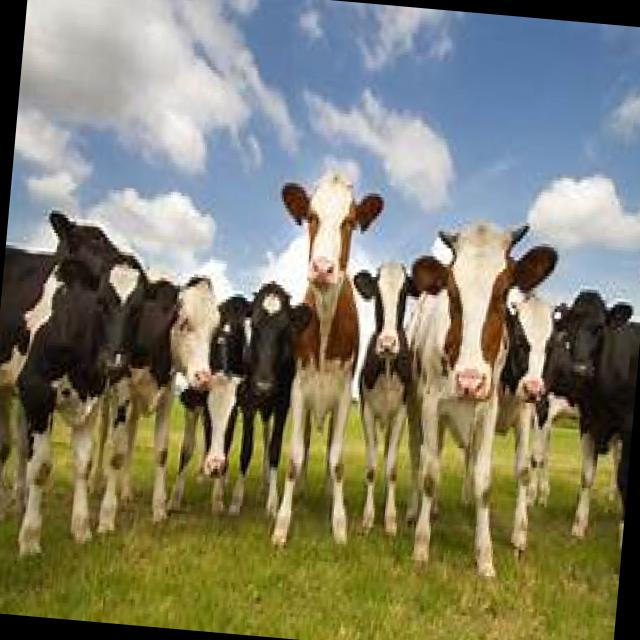animal: (387, 216, 556, 576), (0, 247, 164, 565), (254, 165, 386, 548), (103, 270, 224, 532), (533, 285, 640, 548), (334, 258, 428, 540), (207, 280, 303, 516), (477, 291, 564, 547)
